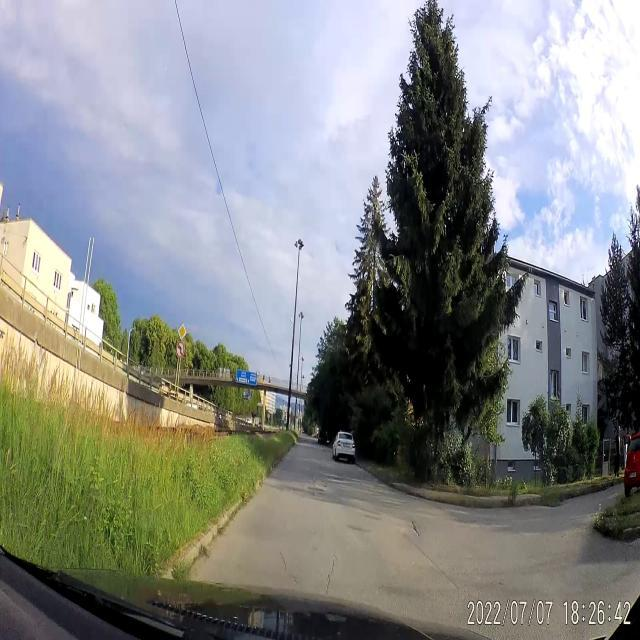Pothole: (410, 510, 420, 544)
